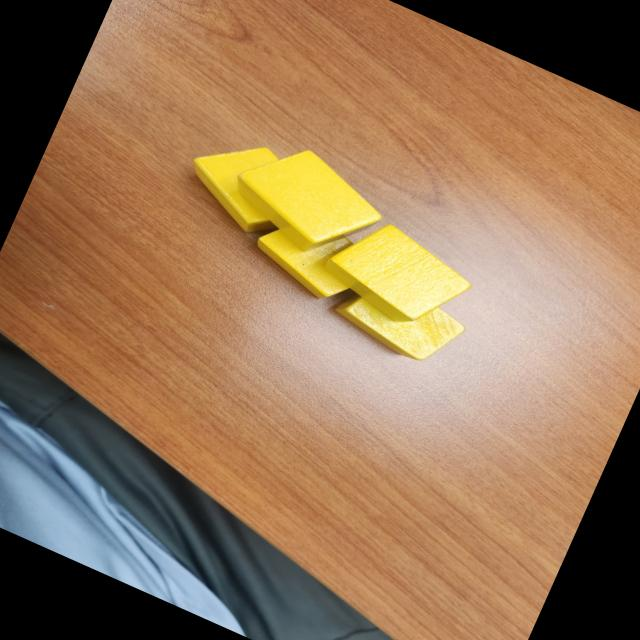yellow: (226, 130, 397, 276), (316, 207, 484, 346), (326, 262, 472, 376), (174, 122, 306, 244), (245, 200, 376, 312)
